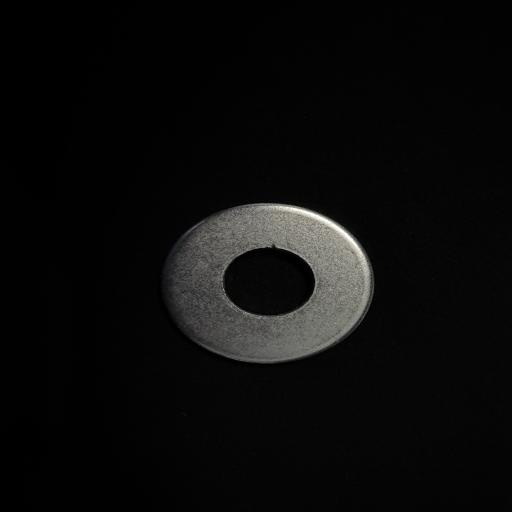Product: (162, 203, 374, 363)
chip off: (263, 238, 288, 253)
